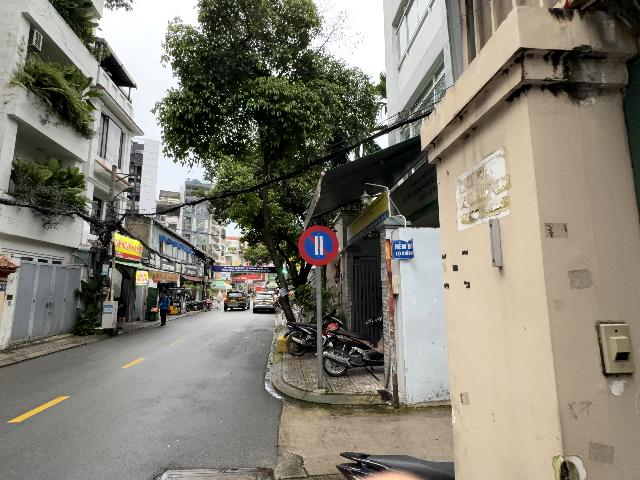cam-do-xe-ngay-chan: (298, 224, 339, 266)
